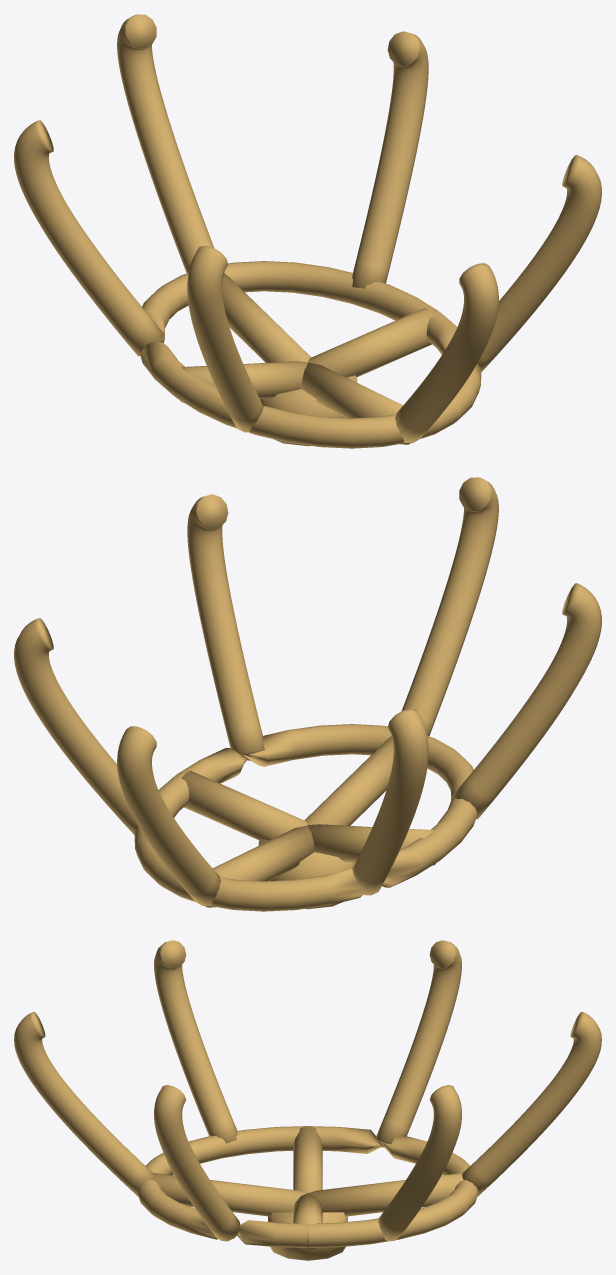
The model's file is demo-oval-6-prong.glb.
3 renders of one model, top to bottom at view 1: azimuth 30°, elevation 25°; view 2: azimuth 150°, elevation 25°; view 3: azimuth 270°, elevation 25°, orthographic. The views are drawn at different scales.
Visible parts, largest first — view 1: Metal.081, Metal.082, Metal.084, Metal.083, Metal.087, Metal.086, Metal.085, Metal.077, Metal.079, Metal.080, Metal.078, Metal.076; view 2: Metal.081, Metal.087, Metal.086, Metal.085, Metal.082, Metal.083, Metal.084, Metal.077, Metal.080, Metal.079, Metal.078, Metal.076; view 3: Metal.081, Metal.084, Metal.085, Metal.083, Metal.086, Metal.087, Metal.082, Metal.079, Metal.080, Metal.078, Metal.076, Metal.077.
Boxes of the visible parts, bbox=[...] form: Metal.081: bbox=[140, 261, 481, 448]; Metal.082: bbox=[352, 31, 428, 288]; Metal.084: bbox=[14, 120, 164, 356]; Metal.083: bbox=[117, 14, 214, 273]; Metal.087: bbox=[477, 155, 601, 371]; Metal.086: bbox=[395, 263, 498, 442]; Metal.085: bbox=[187, 245, 263, 432]; Metal.077: bbox=[308, 308, 434, 377]; Metal.079: bbox=[222, 273, 311, 362]; Metal.080: bbox=[301, 362, 410, 444]; Metal.078: bbox=[180, 361, 307, 402]; Metal.076: bbox=[260, 375, 357, 446]; Metal.081: bbox=[134, 724, 477, 911]; Metal.087: bbox=[187, 494, 264, 755]; Metal.086: bbox=[401, 477, 498, 736]; Metal.085: bbox=[451, 583, 601, 819]; Metal.082: bbox=[14, 618, 138, 834]; Metal.083: bbox=[117, 726, 220, 905]; Metal.084: bbox=[352, 708, 428, 895]; Metal.077: bbox=[181, 771, 307, 840]; Metal.080: bbox=[304, 736, 393, 825]; Metal.079: bbox=[205, 825, 314, 907]; Metal.078: bbox=[308, 824, 435, 865]; Metal.076: bbox=[258, 838, 355, 909]; Metal.081: bbox=[137, 1126, 478, 1247]; Metal.084: bbox=[375, 940, 461, 1144]; Metal.085: bbox=[154, 940, 237, 1143]; Metal.083: bbox=[462, 1011, 601, 1196]; Metal.086: bbox=[14, 1011, 153, 1196]; Metal.087: bbox=[154, 1085, 240, 1241]; Metal.082: bbox=[378, 1085, 461, 1241]; Metal.079: bbox=[309, 1173, 463, 1216]; Metal.080: bbox=[152, 1173, 306, 1216]; Metal.078: bbox=[293, 1126, 322, 1192]; Metal.076: bbox=[268, 1212, 347, 1260]; Metal.077: bbox=[293, 1193, 322, 1249].
Bounding box in the file's own units: 6.23 × 4.16 × 9.59.
